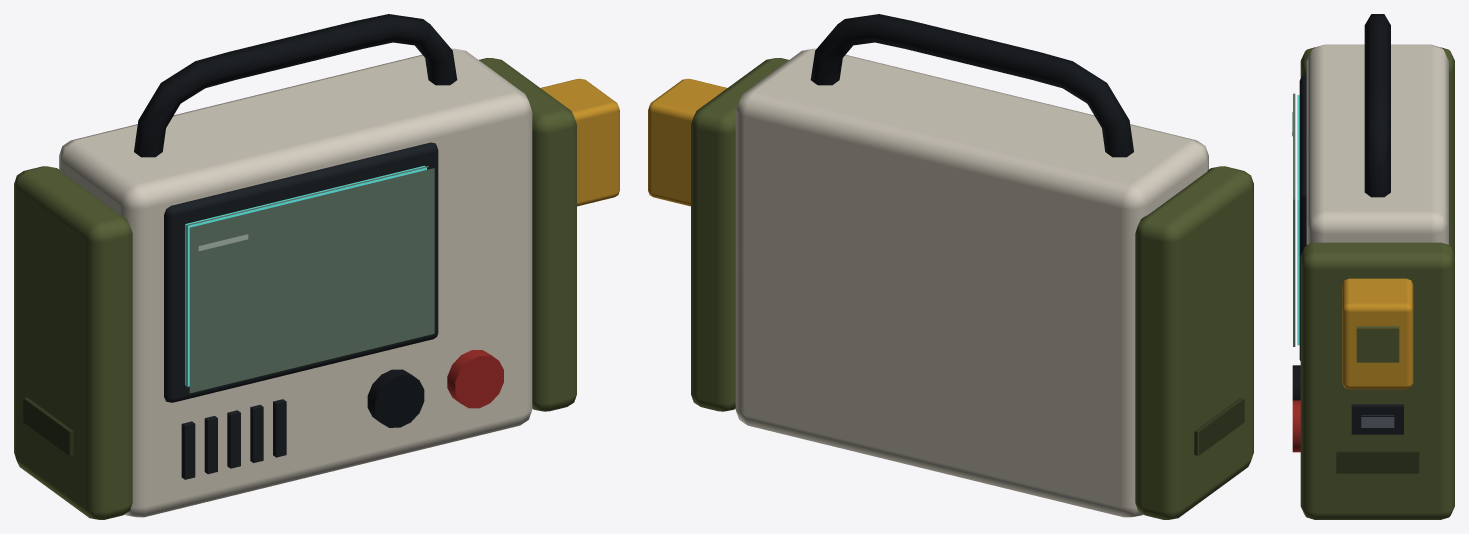
The model's file is cyberdeck.glb.
3 views of the same model, side by side, from view 1: azimuth 30°, elevation 25°; view 2: azimuth 150°, elevation 25°; view 3: azimuth 270°, elevation 25° (orthographic). The views are drawn at different scales.
Parts seen in each view (by area): view 1: cyberdeck_malha, tela_desligada_malha, tela_ligada; view 2: cyberdeck_malha; view 3: cyberdeck_malha, tela_desligada_malha, tela_ligada.
Part boxes in pixels (bbox=[...]): cyberdeck_malha: bbox=[14, 14, 619, 519]; tela_desligada_malha: bbox=[186, 166, 434, 393]; tela_ligada: bbox=[185, 165, 426, 386]; cyberdeck_malha: bbox=[648, 14, 1253, 519]; cyberdeck_malha: bbox=[1292, 14, 1454, 519]; tela_desligada_malha: bbox=[1292, 93, 1295, 346]; tela_ligada: bbox=[1297, 95, 1299, 345].
Size of the model in its own units: 0.4924 by 0.3445 by 0.1458.
